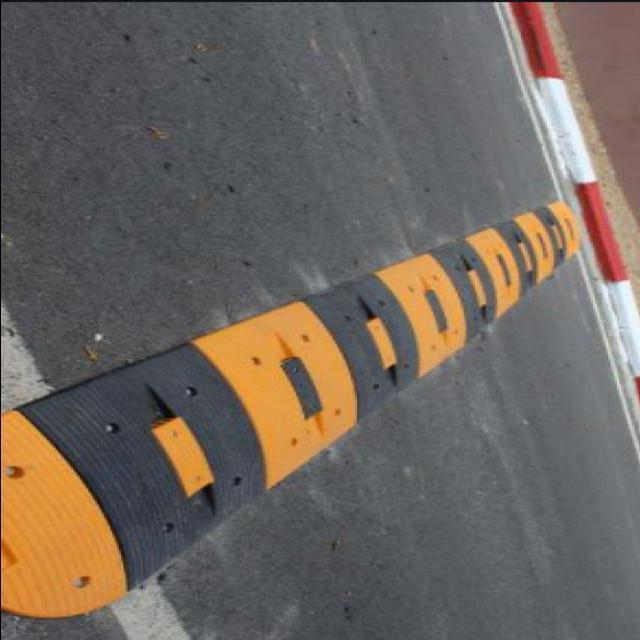speedbreaker: (0, 192, 575, 617)
